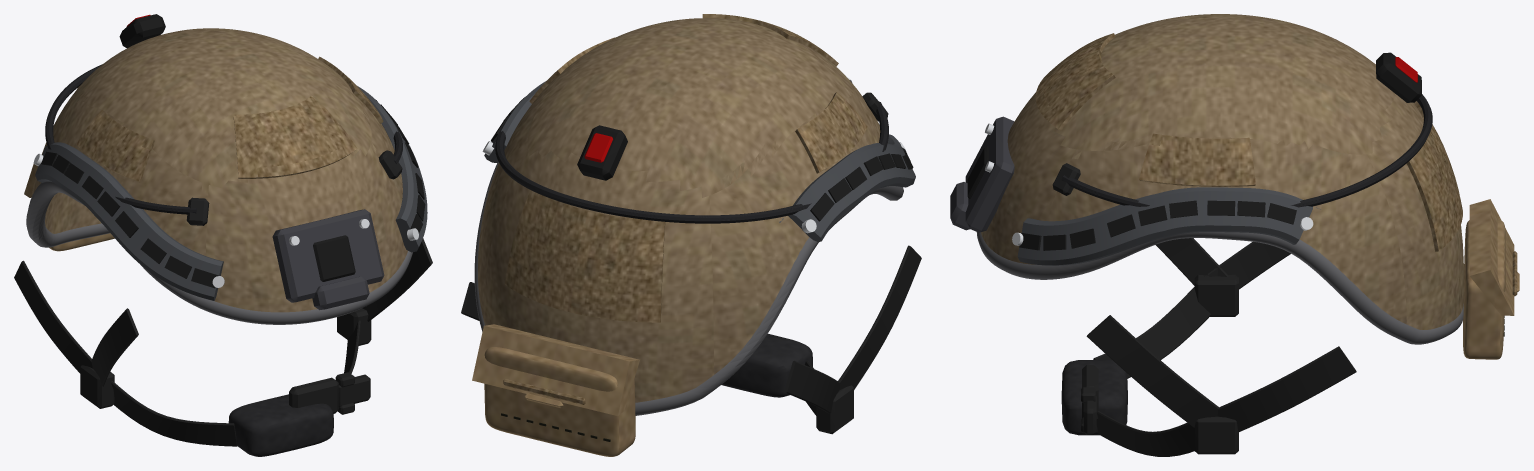
File: capacete_militar.glb
3 views of the same model, side by side, from view 1: azimuth 30°, elevation 25°; view 2: azimuth 150°, elevation 25°; view 3: azimuth 270°, elevation 25° (orthographic). The views are drawn at different scales.
Parts seen in each view (by area): view 1: capacete_militar_tinta_casco_coiote, capacete_militar_nylon_preto, capacete_militar_velcro_coiote, capacete_militar_pc_grafite, capacete_militar_aluminio_escuro, capacete_militar_pc_preto, capacete_militar_borracha, capacete_militar_forro_preto, capacete_militar_elastico_preto, capacete_militar_cordura_coiote, capacete_militar_cromado; view 2: capacete_militar_tinta_casco_coiote, capacete_militar_velcro_coiote, capacete_militar_cordura_coiote, capacete_militar_nylon_preto, capacete_militar_pc_grafite, capacete_militar_borracha, capacete_militar_elastico_preto, capacete_militar_pc_preto, capacete_militar_forro_preto, capacete_militar_lente_vermelha; view 3: capacete_militar_tinta_casco_coiote, capacete_militar_nylon_preto, capacete_militar_velcro_coiote, capacete_militar_pc_grafite, capacete_militar_cordura_coiote, capacete_militar_borracha, capacete_militar_pc_preto, capacete_militar_aluminio_escuro, capacete_militar_forro_preto, capacete_militar_elastico_preto.
Boxes of the visible parts, bbox=[...] form: capacete_militar_tinta_casco_coiote: bbox=[31, 28, 407, 312]; capacete_militar_nylon_preto: bbox=[14, 150, 432, 446]; capacete_militar_velcro_coiote: bbox=[76, 56, 383, 182]; capacete_militar_pc_grafite: bbox=[35, 86, 427, 300]; capacete_militar_aluminio_escuro: bbox=[272, 209, 384, 310]; capacete_militar_pc_preto: bbox=[41, 14, 425, 288]; capacete_militar_borracha: bbox=[26, 181, 412, 324]; capacete_militar_forro_preto: bbox=[228, 394, 333, 456]; capacete_militar_elastico_preto: bbox=[45, 64, 402, 214]; capacete_militar_cordura_coiote: bbox=[24, 163, 114, 251]; capacete_militar_cromado: bbox=[33, 153, 418, 287]; capacete_militar_tinta_casco_coiote: bbox=[478, 18, 880, 402]; capacete_militar_velcro_coiote: bbox=[503, 14, 867, 404]; capacete_militar_cordura_coiote: bbox=[472, 324, 639, 456]; capacete_militar_nylon_preto: bbox=[461, 92, 921, 434]; capacete_militar_pc_grafite: bbox=[484, 81, 915, 242]; capacete_militar_borracha: bbox=[474, 162, 903, 415]; capacete_militar_elastico_preto: bbox=[495, 101, 888, 223]; capacete_militar_pc_preto: bbox=[491, 97, 913, 221]; capacete_militar_forro_preto: bbox=[721, 333, 812, 397]; capacete_militar_lente_vermelha: bbox=[584, 133, 613, 162]; capacete_militar_tinta_casco_coiote: bbox=[981, 14, 1463, 329]; capacete_militar_nylon_preto: bbox=[1052, 163, 1356, 456]; capacete_militar_velcro_coiote: bbox=[1035, 33, 1517, 296]; capacete_militar_pc_grafite: bbox=[1017, 187, 1312, 265]; capacete_militar_cordura_coiote: bbox=[1463, 199, 1519, 359]; capacete_militar_borracha: bbox=[976, 232, 1463, 344]; capacete_militar_pc_preto: bbox=[967, 52, 1421, 250]; capacete_militar_aluminio_escuro: bbox=[950, 116, 1014, 232]; capacete_militar_forro_preto: bbox=[1061, 360, 1127, 435]; capacete_militar_elastico_preto: bbox=[1061, 94, 1432, 207].
Bounding box in the file's own units: 0.2155 × 0.2279 × 0.3084.
14 materials, 6 textured.
